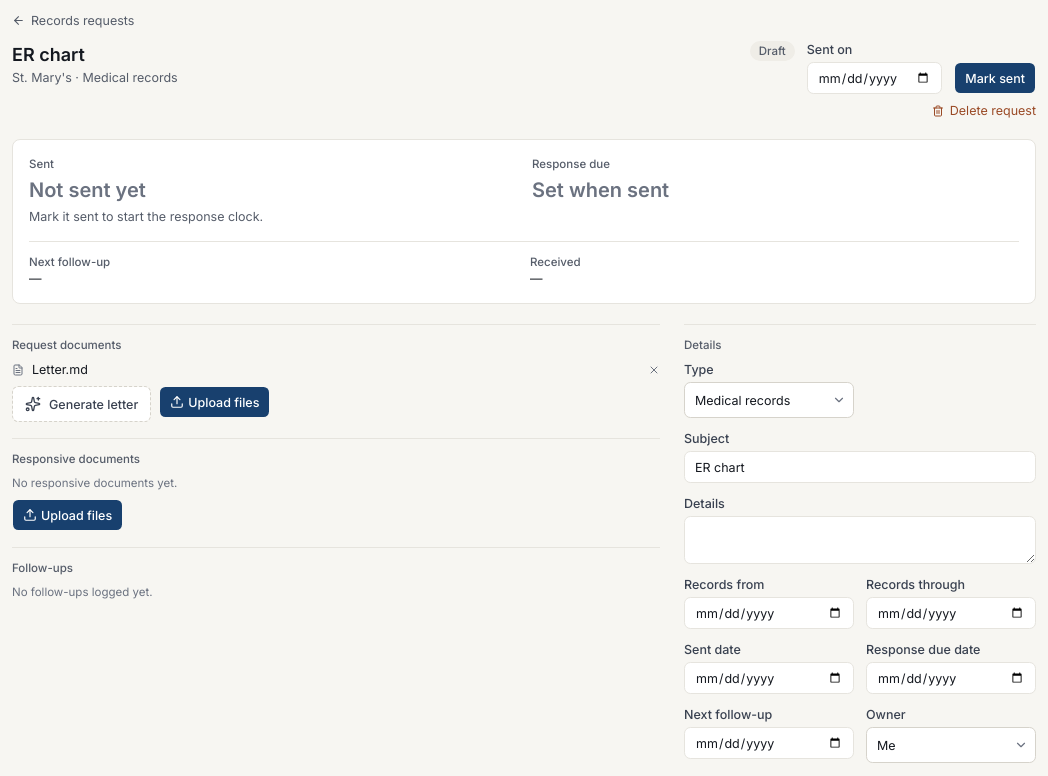
RequestDetail › a failed unlink is surfaced
Click the button named "Unlink Letter.md". click: [654, 370]
box: [648,364,660,376]
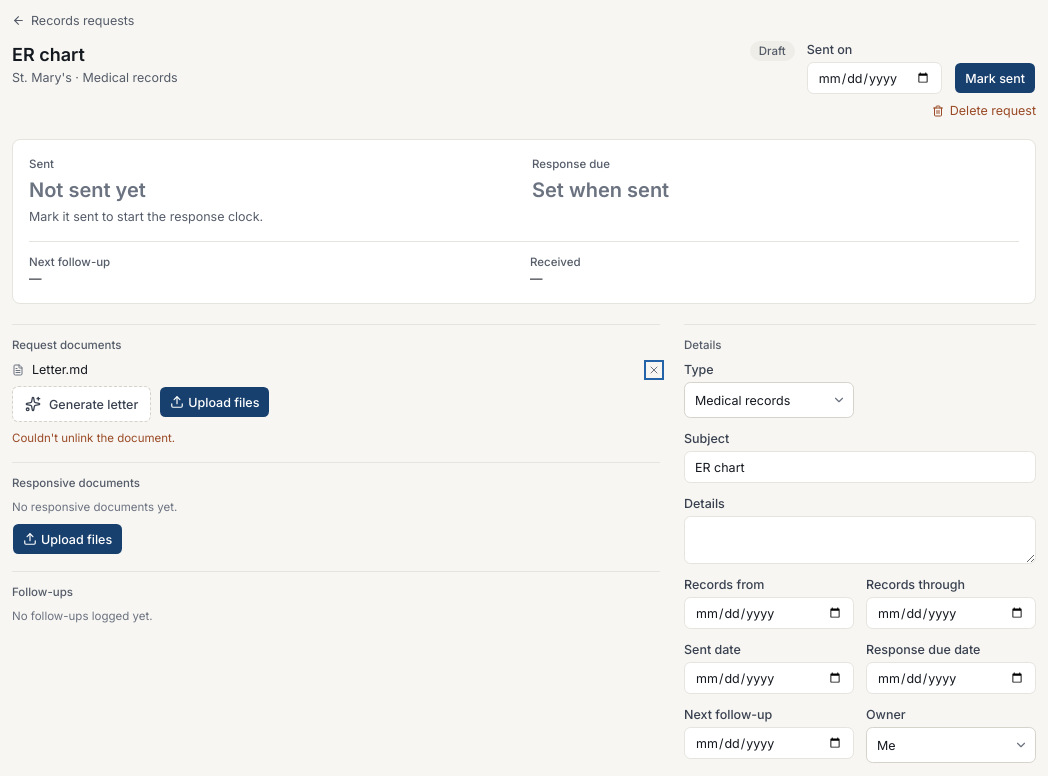
Check: the text "Couldn't unlink the document." is shown, box [12,431,175,445]
